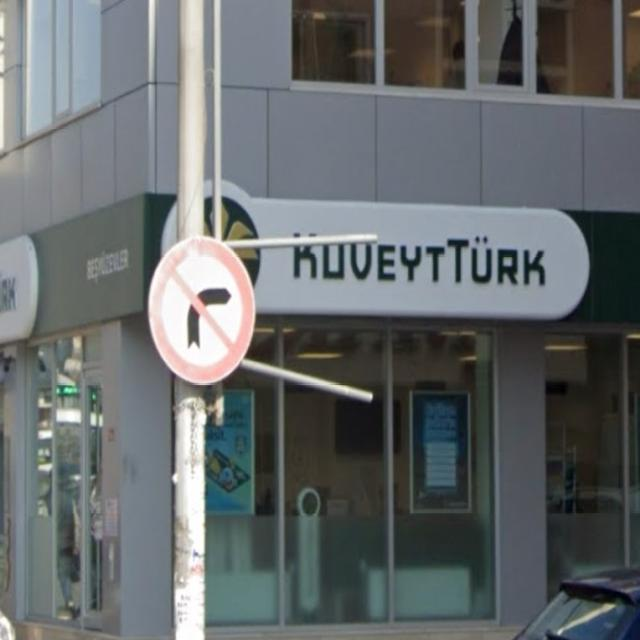sagadonulmez: (147, 237, 253, 383)
